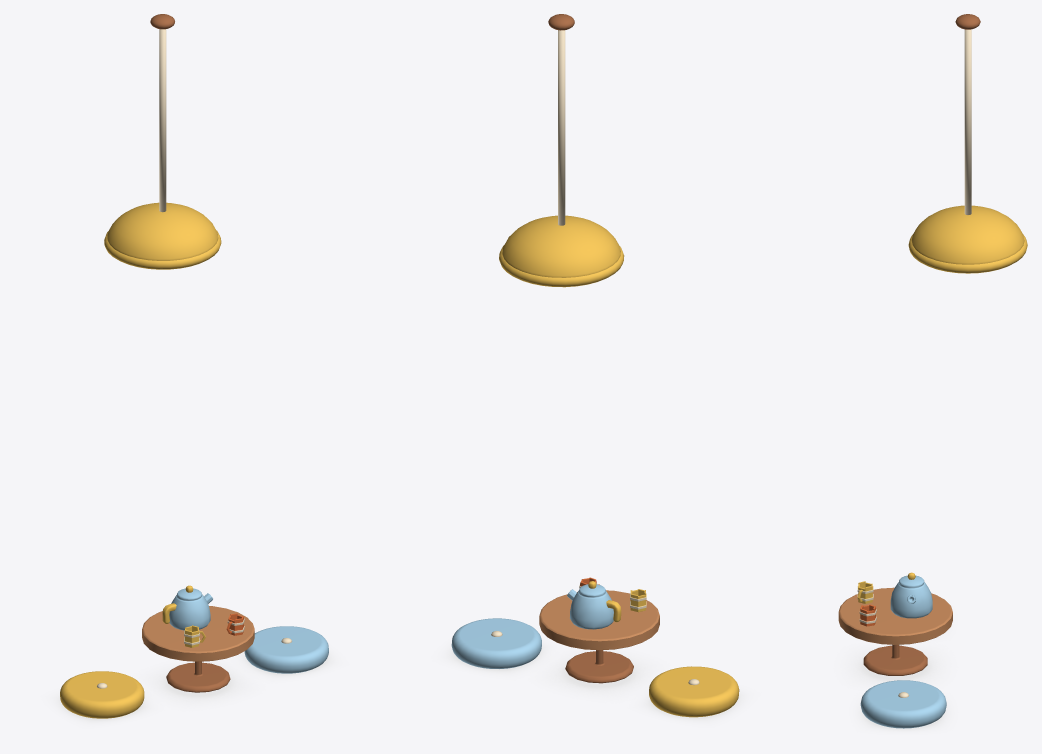
File: room_base_v3.glb
The picture shows the model from 3 angles, left to right: view 1: azimuth 30°, elevation 25°; view 2: azimuth 150°, elevation 25°; view 3: azimuth 270°, elevation 25°; orthographic projection. The views are drawn at different scales.
Parts seen in each view (by area): view 1: round_table_top, ceiling_lamp_cap, cushion_yellow_body, cushion_sky_body, shadow_round_table, round_table_teapot_body, ceiling_lamp_cord, ceiling_lamp_rim, shadow_cushion_yellow, shadow_cushion_sky; view 2: round_table_top, ceiling_lamp_cap, cushion_yellow_body, cushion_sky_body, shadow_round_table, round_table_teapot_body, ceiling_lamp_cord, ceiling_lamp_rim, shadow_cushion_yellow, shadow_cushion_sky; view 3: round_table_top, ceiling_lamp_cap, cushion_sky_body, shadow_round_table, round_table_teapot_body, ceiling_lamp_cord, ceiling_lamp_rim, shadow_cushion_sky.
Boxes of the visible parts, x1,y1,x2,y2 form: round_table_top: [142, 606, 254, 692]; ceiling_lamp_cap: [107, 202, 218, 260]; cushion_yellow_body: [60, 671, 144, 718]; cushion_sky_body: [244, 626, 328, 673]; shadow_round_table: [146, 661, 250, 705]; round_table_teapot_body: [162, 585, 212, 630]; ceiling_lamp_cord: [159, 29, 166, 212]; ceiling_lamp_rim: [104, 230, 221, 269]; shadow_cushion_yellow: [51, 692, 153, 723]; shadow_cushion_sky: [236, 650, 337, 679]; round_table_top: [539, 590, 659, 683]; ceiling_lamp_cap: [502, 215, 620, 277]; cushion_yellow_body: [649, 666, 739, 717]; cushion_sky_body: [451, 618, 541, 668]; shadow_round_table: [543, 650, 656, 696]; round_table_teapot_body: [567, 581, 621, 629]; ceiling_lamp_cord: [558, 30, 565, 225]; ceiling_lamp_rim: [499, 245, 624, 287]; shadow_cushion_yellow: [639, 689, 748, 723]; shadow_cushion_sky: [442, 641, 551, 674]; round_table_top: [838, 587, 952, 675]; ceiling_lamp_cap: [911, 205, 1024, 264]; cushion_sky_body: [860, 680, 946, 728]; shadow_round_table: [845, 646, 946, 685]; round_table_teapot_body: [890, 572, 932, 618]; ceiling_lamp_cord: [964, 29, 971, 214]; ceiling_lamp_rim: [908, 234, 1027, 273]; shadow_cushion_sky: [856, 701, 951, 732].
Bounding box in the file's own units: 2.18 × 4.52 × 1.33.
7 materials, 1 textured.
